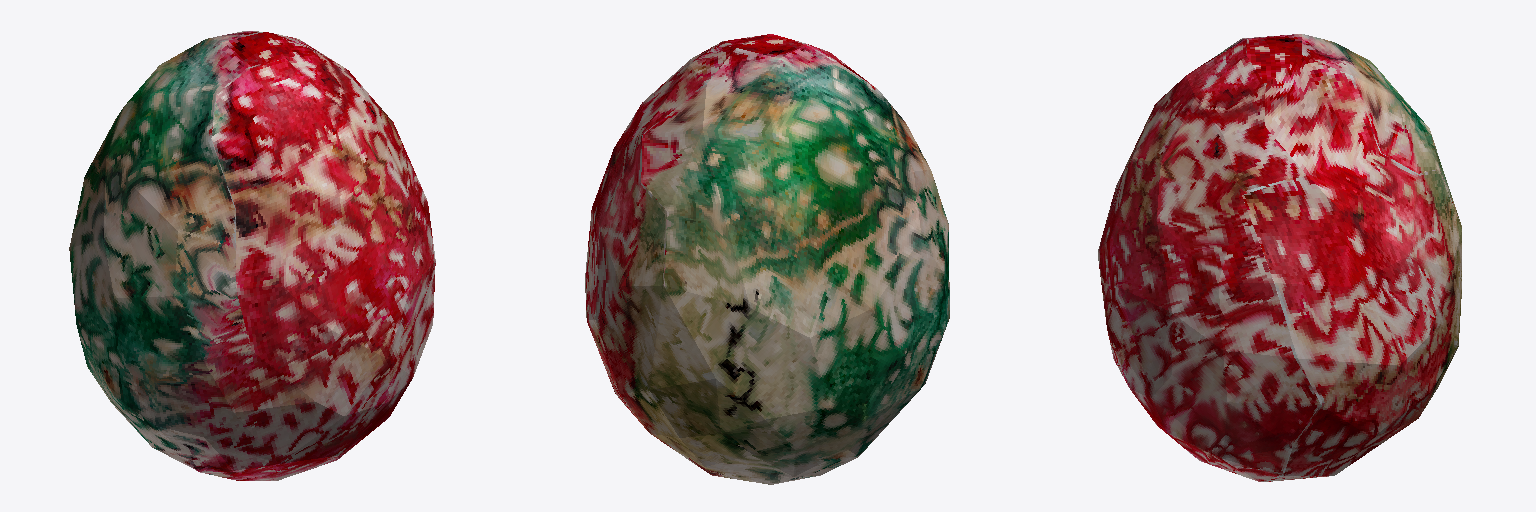
3 views of the same model, side by side, from view 1: azimuth 30°, elevation 25°; view 2: azimuth 150°, elevation 25°; view 3: azimuth 270°, elevation 25° (orthographic).
Visible parts, largest first — view 1: pMesh1; view 2: pMesh1; view 3: pMesh1.
Boxes of the visible parts, box(x1,y1,x2,y2) form: pMesh1: box(69, 31, 435, 480); pMesh1: box(585, 34, 949, 484); pMesh1: box(1098, 34, 1461, 481).
Bounding box in the file's own units: 41.29 × 52.58 × 41.18.
Materials: 1 (1 with a texture image).